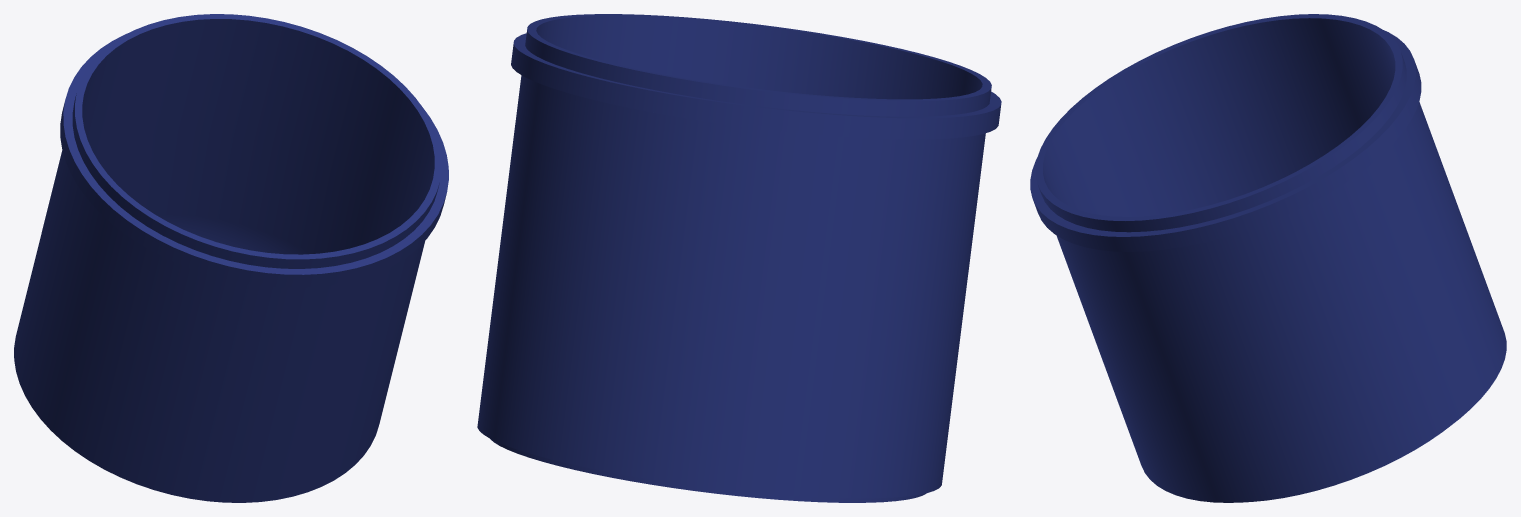
3 renders of one model, left to right at view 1: azimuth 30°, elevation 25°; view 2: azimuth 150°, elevation 25°; view 3: azimuth 270°, elevation 25°, orthographic. The views are drawn at different scales.
Visible parts, largest first — view 1: Stacking Cup 8; view 2: Stacking Cup 8; view 3: Stacking Cup 8.
Boxes of the visible parts, left/top/right/bottom form: Stacking Cup 8: left=14, top=14, right=448, bottom=502; Stacking Cup 8: left=477, top=14, right=1001, bottom=502; Stacking Cup 8: left=1030, top=14, right=1506, bottom=502.
Bounding box in the file's own units: 0.9533 × 1.03 × 1.11.
